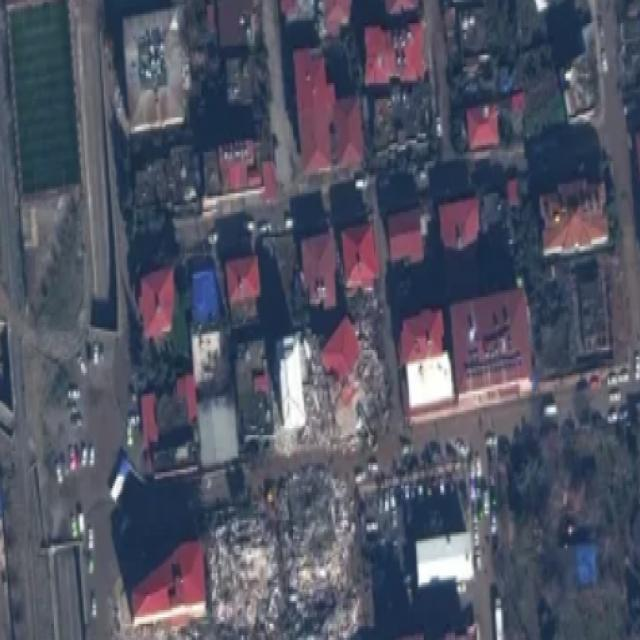Rubble: (206, 497, 283, 638), (277, 476, 354, 576), (284, 580, 361, 639), (305, 374, 357, 432), (358, 322, 388, 416), (276, 427, 306, 452)
